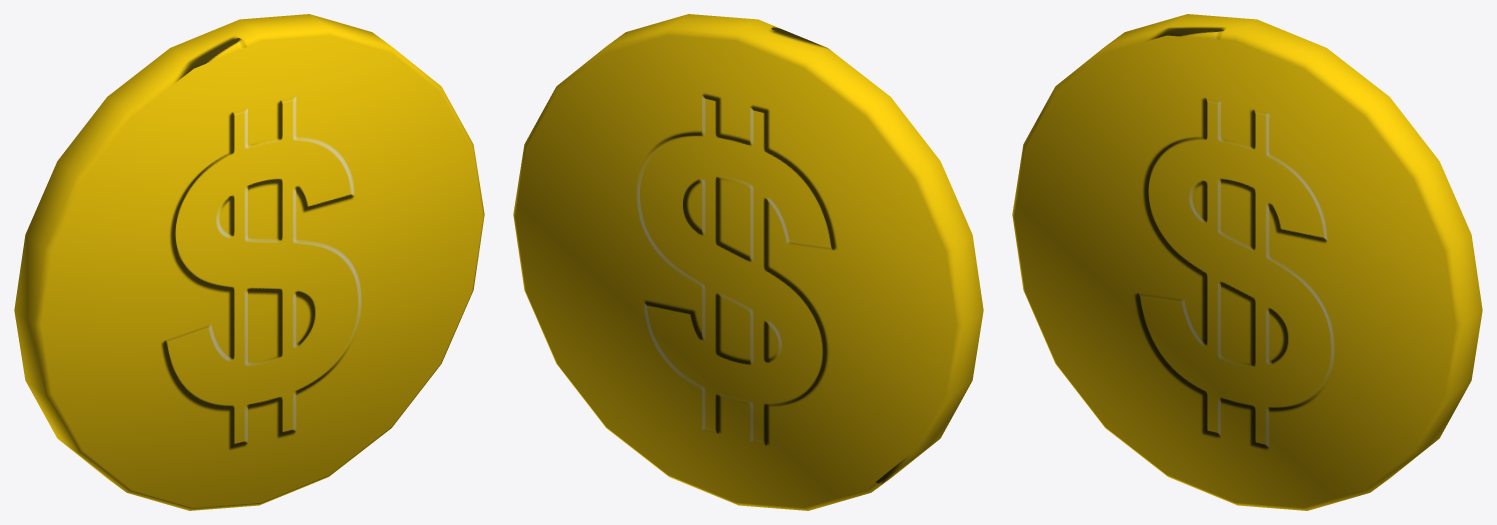
File: Dola 1.FBX
3 views of the same model, side by side, from view 1: azimuth 30°, elevation 25°; view 2: azimuth 150°, elevation 25°; view 3: azimuth 330°, elevation 25° (orthographic).
Visible parts, largest first — view 1: Cylinder001; view 2: Cylinder001; view 3: Cylinder001.
Boxes of the visible parts, left/top/right/bottom form: Cylinder001: left=14, top=14, right=484, bottom=510; Cylinder001: left=513, top=14, right=983, bottom=510; Cylinder001: left=1012, top=14, right=1482, bottom=510.
Bounding box in the file's own units: 63 × 63 × 6.06.
1 material, 1 textured.
